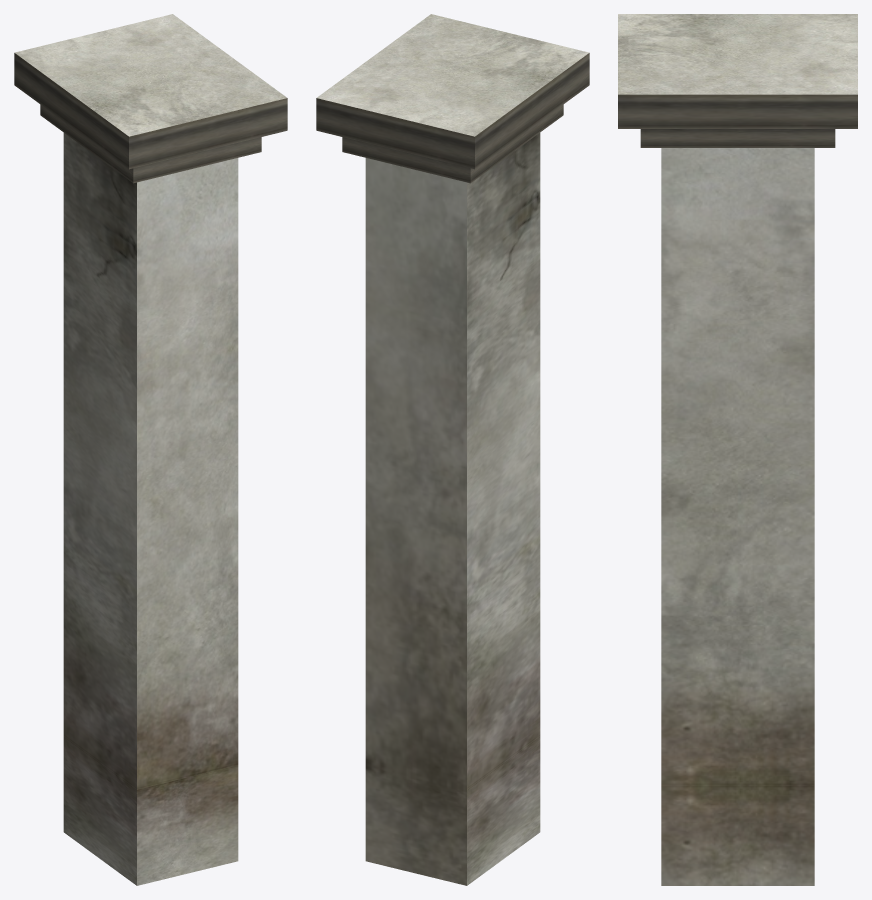
The model's file is english_wall_col.fbx.
3 views of the same model, side by side, from view 1: azimuth 30°, elevation 25°; view 2: azimuth 150°, elevation 25°; view 3: azimuth 270°, elevation 25° (orthographic). The views are drawn at different scales.
Parts seen in each view (by area): view 1: lod_high; view 2: lod_high; view 3: lod_high.
Boxes of the visible parts, box(x1,y1,x2,y2) form: lod_high: box(14, 14, 287, 885); lod_high: box(316, 14, 589, 885); lod_high: box(618, 14, 857, 885).
Size of the model in its own units: 860 by 3999 by 1079.
Materials: 1 (1 with a texture image).
